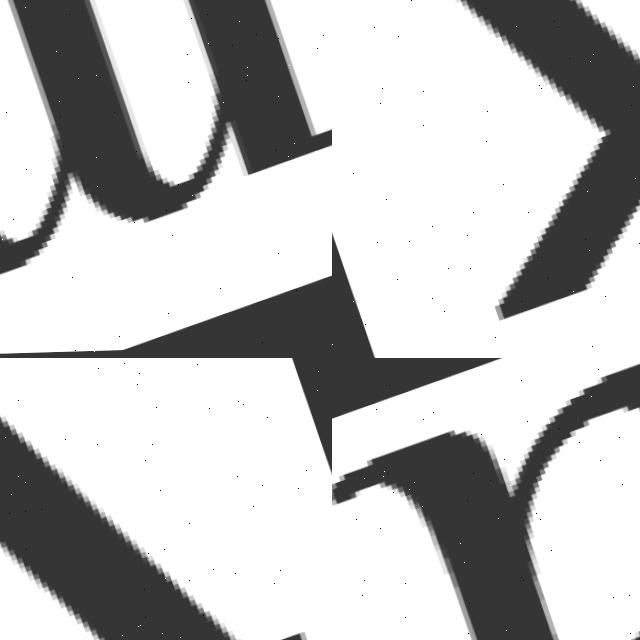A: (332, 358, 640, 640)
K: (372, 0, 640, 358)
M: (0, 0, 332, 326)
V: (0, 358, 322, 640)
